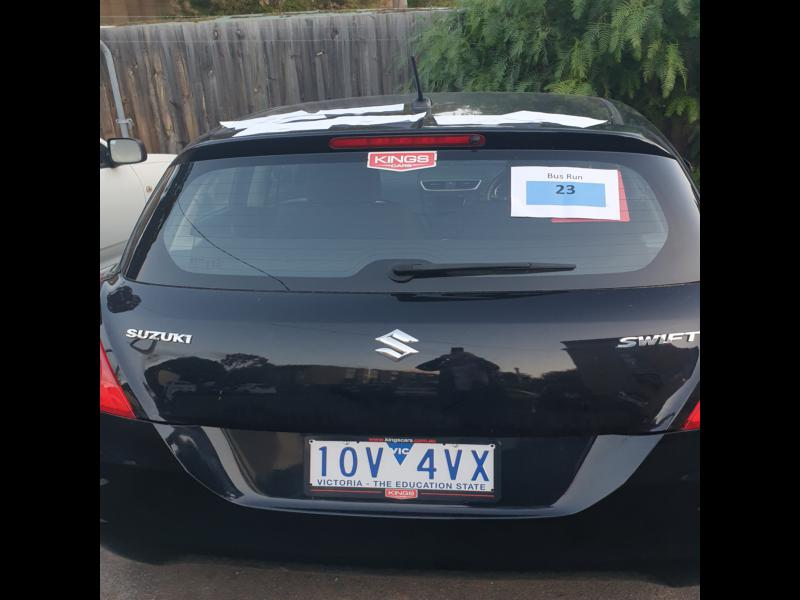BusRun: (525, 179, 605, 207)
PlateNo: (307, 437, 500, 489)
